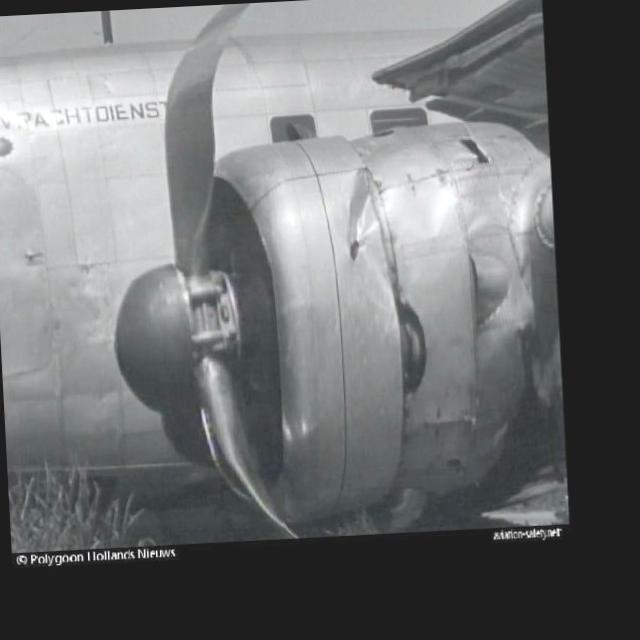dent: (332, 175, 382, 287)
